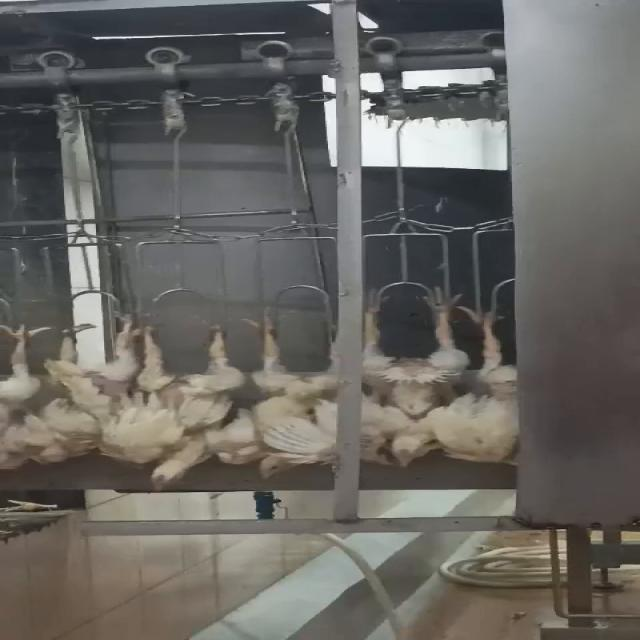chicken: (385, 290, 519, 478), (361, 288, 472, 472), (245, 300, 345, 483), (137, 313, 240, 490), (48, 312, 144, 466), (0, 321, 56, 478)
